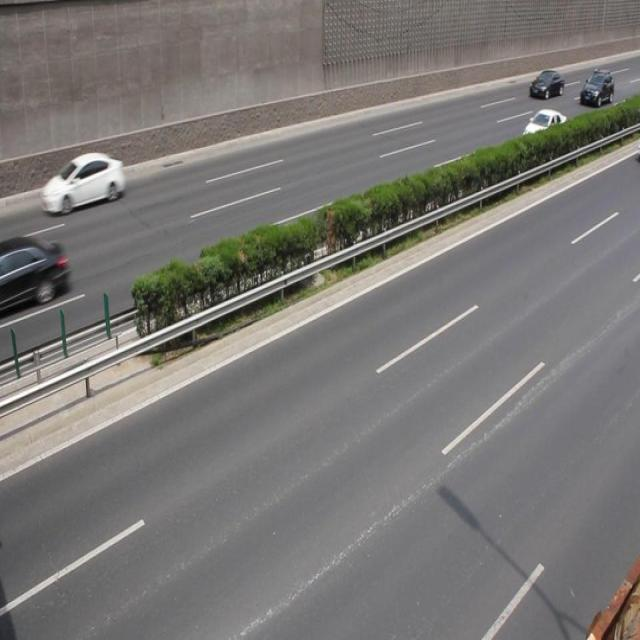car: (40, 153, 125, 214), (1, 237, 68, 314), (520, 109, 568, 153), (578, 68, 611, 106), (528, 68, 563, 100)
